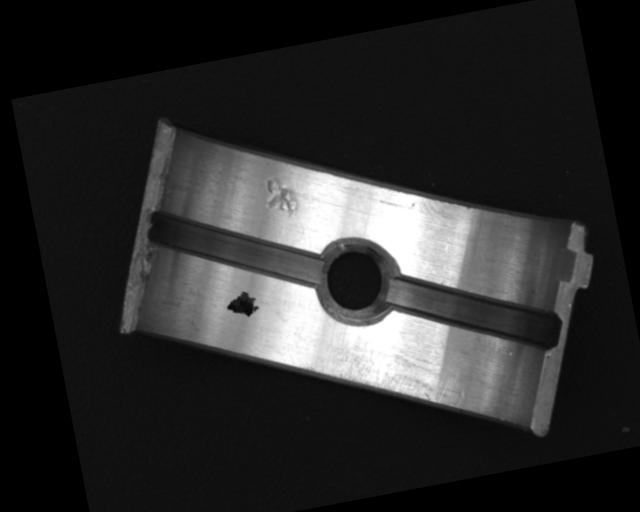blot: (222, 286, 261, 321)
bruise: (259, 173, 303, 224)
gap: (383, 243, 567, 376), (145, 182, 326, 314)
hole: (314, 231, 398, 332)
scratch: (320, 317, 467, 433)
